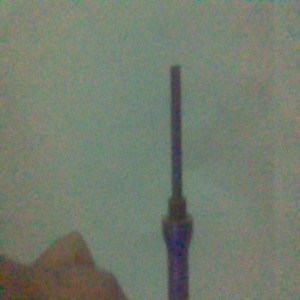obeng: (159, 64, 194, 300)
